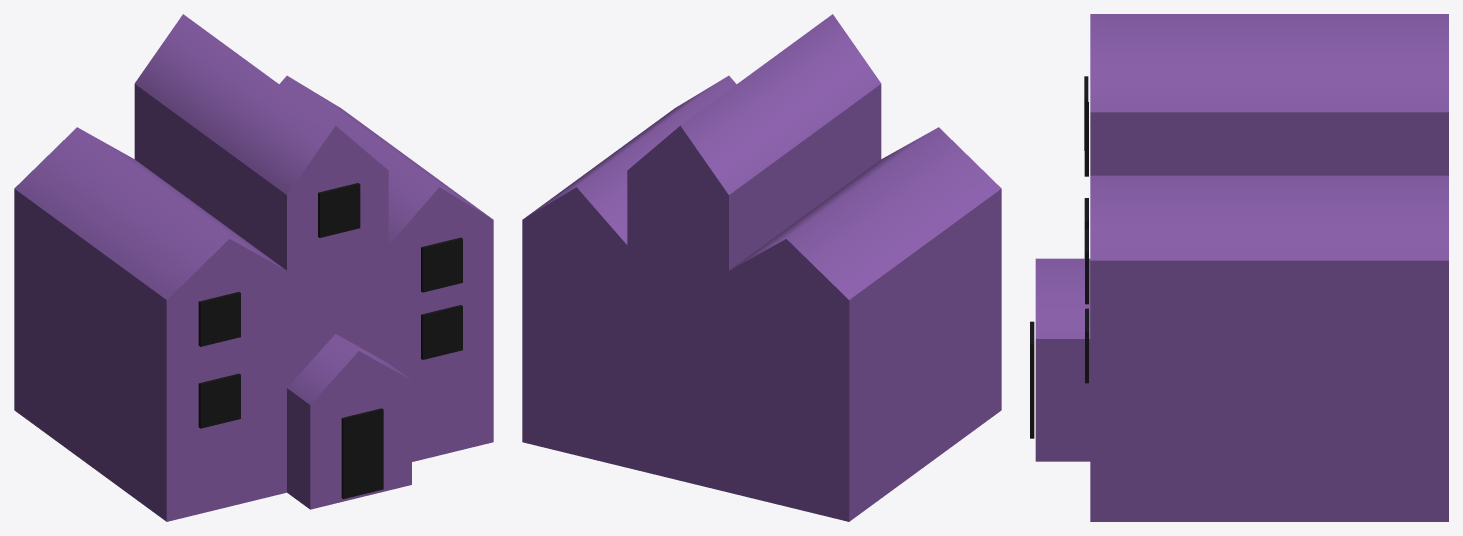
File: Mr.Ghoal's House.fbx
The picture shows the model from 3 angles, left to right: view 1: azimuth 30°, elevation 25°; view 2: azimuth 150°, elevation 25°; view 3: azimuth 270°, elevation 25°; orthographic projection. The views are drawn at different scales.
Parts seen in each view (by area): view 1: pCube8; view 2: pCube8; view 3: pCube8.
Part boxes in pixels (box(x1,y1,x2,y2)): pCube8: box(14, 14, 493, 521); pCube8: box(522, 14, 1001, 521); pCube8: box(1030, 14, 1448, 521).
Bounding box in the file's own units: 8.1 × 8.42 × 7.65.
